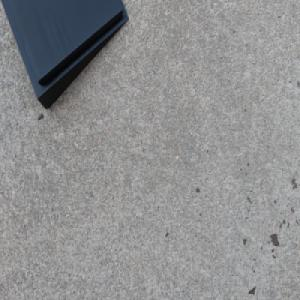PlasticPart: (0, 0, 129, 111)
